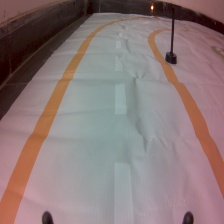yellow: (148, 1, 180, 66)
